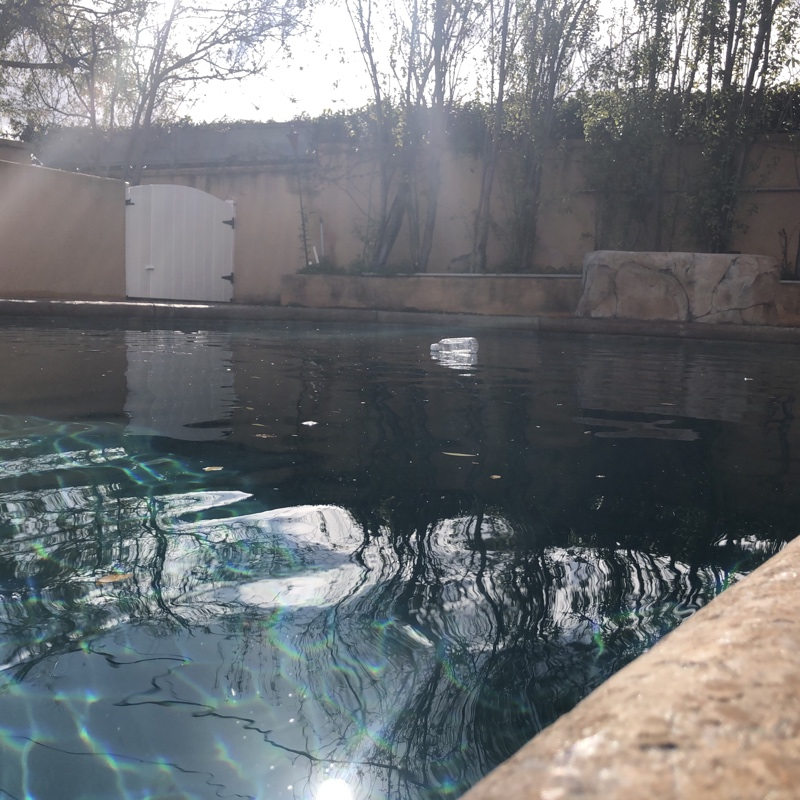Plastic Bottle: (428, 338, 476, 351)
